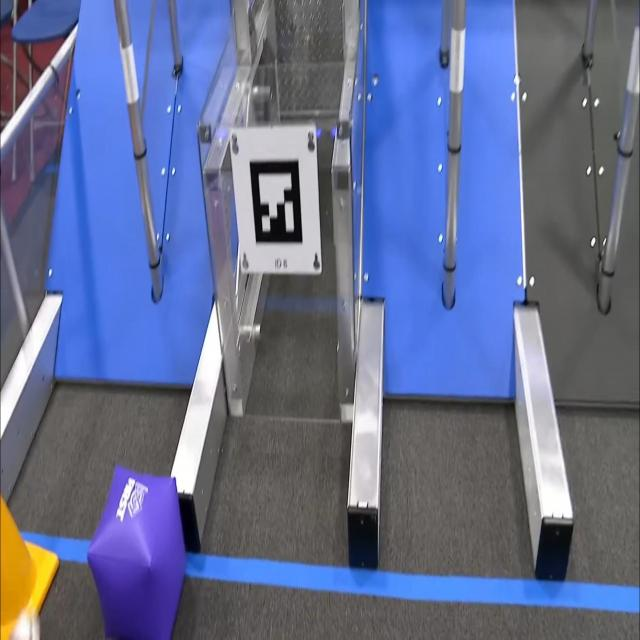frc_cone: (0, 443, 60, 640)
frc_cube: (86, 464, 187, 640)
